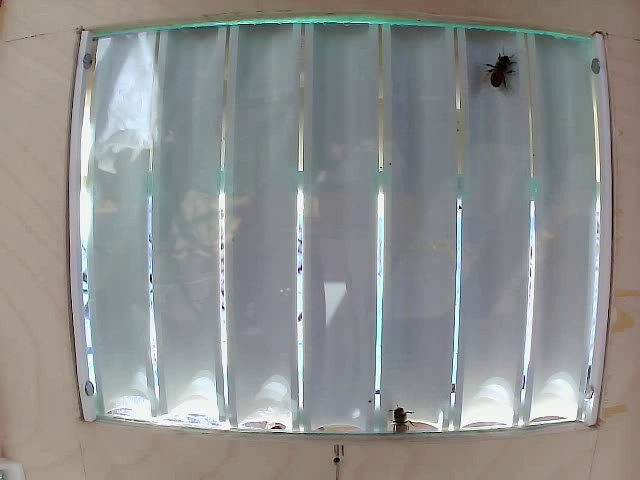bee: (476, 41, 524, 112)
